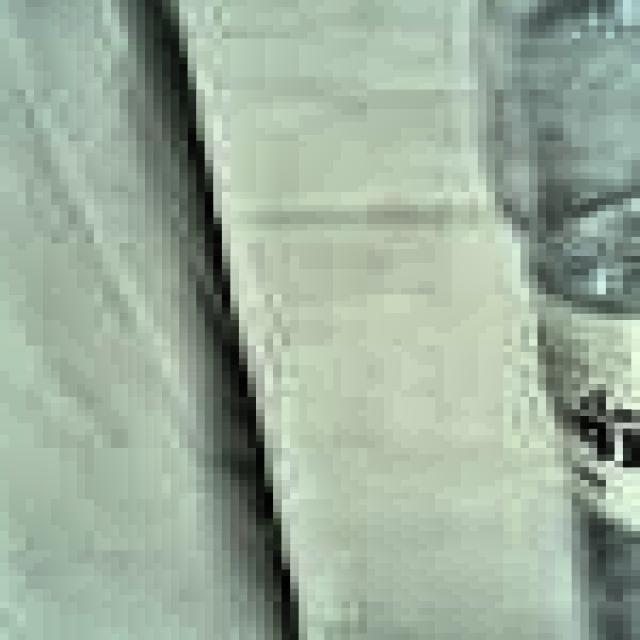plastic: (418, 0, 640, 640)
